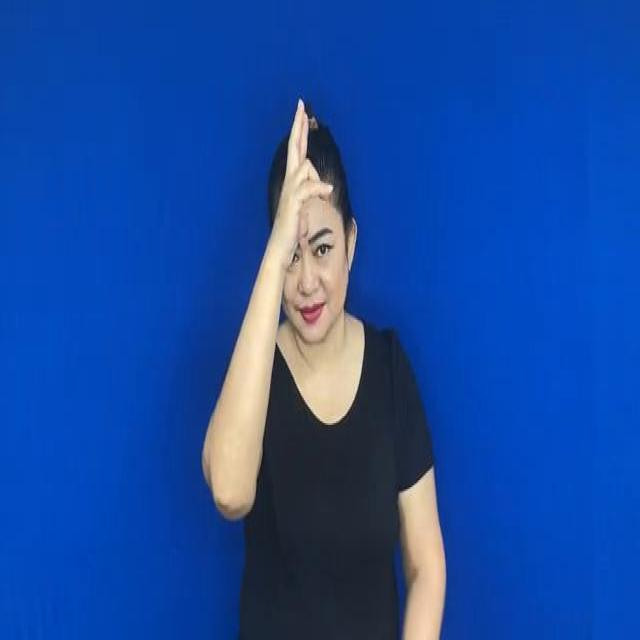chicken: (275, 86, 331, 250)
